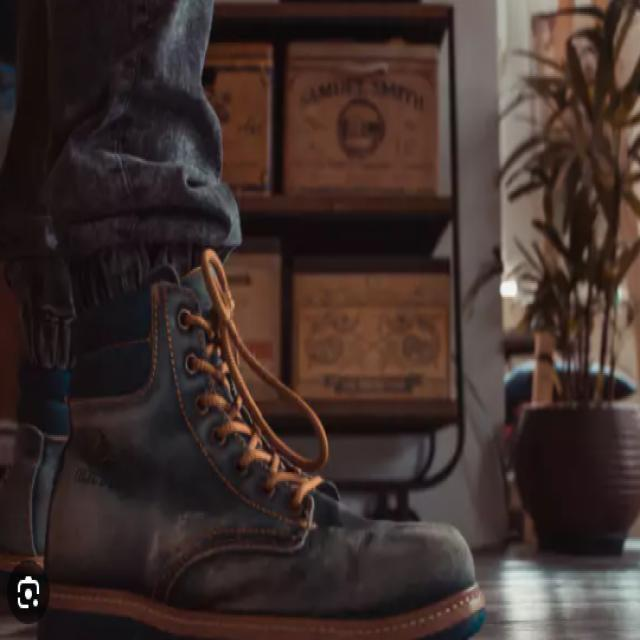shoes: (0, 210, 489, 639)
